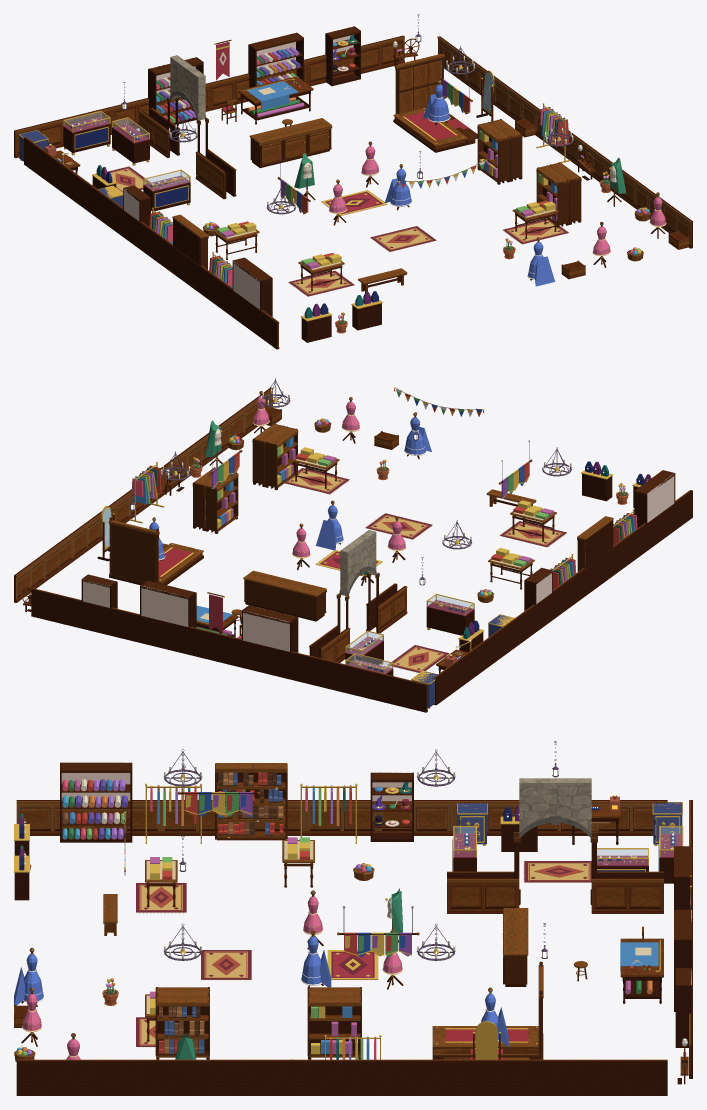
Rendered from shop_tailor_interior.gltf.
The picture shows the model from 3 angles, top to bottom: view 1: azimuth 30°, elevation 25°; view 2: azimuth 150°, elevation 25°; view 3: azimuth 270°, elevation 25°; orthographic projection. The views are drawn at different scales.
Parts seen in each view (by area): view 1: shop_tailor_interior; view 2: shop_tailor_interior; view 3: shop_tailor_interior.
Part boxes in pixels (box(x1,y1,x2,y2)): shop_tailor_interior: box(14, 14, 692, 349); shop_tailor_interior: box(14, 378, 692, 712); shop_tailor_interior: box(14, 741, 692, 1095).
Size of what is drawn, in the model's own units: 17.1 by 3.98 by 18.77.
12 materials, 3 textured.
